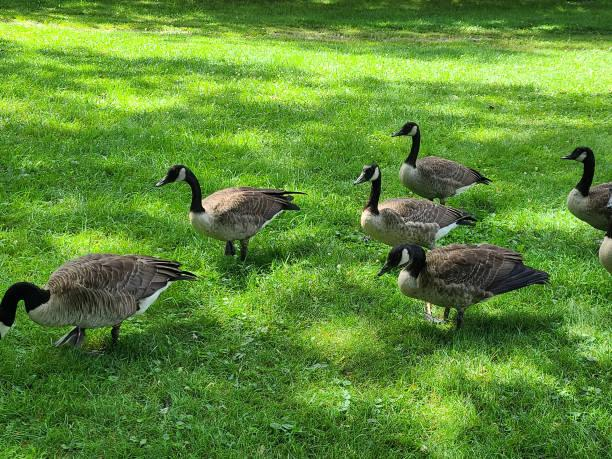Canadian-Goose: (0, 249, 189, 353), (375, 241, 546, 329), (153, 161, 293, 255), (356, 164, 471, 243), (392, 122, 486, 198), (553, 146, 612, 231)
